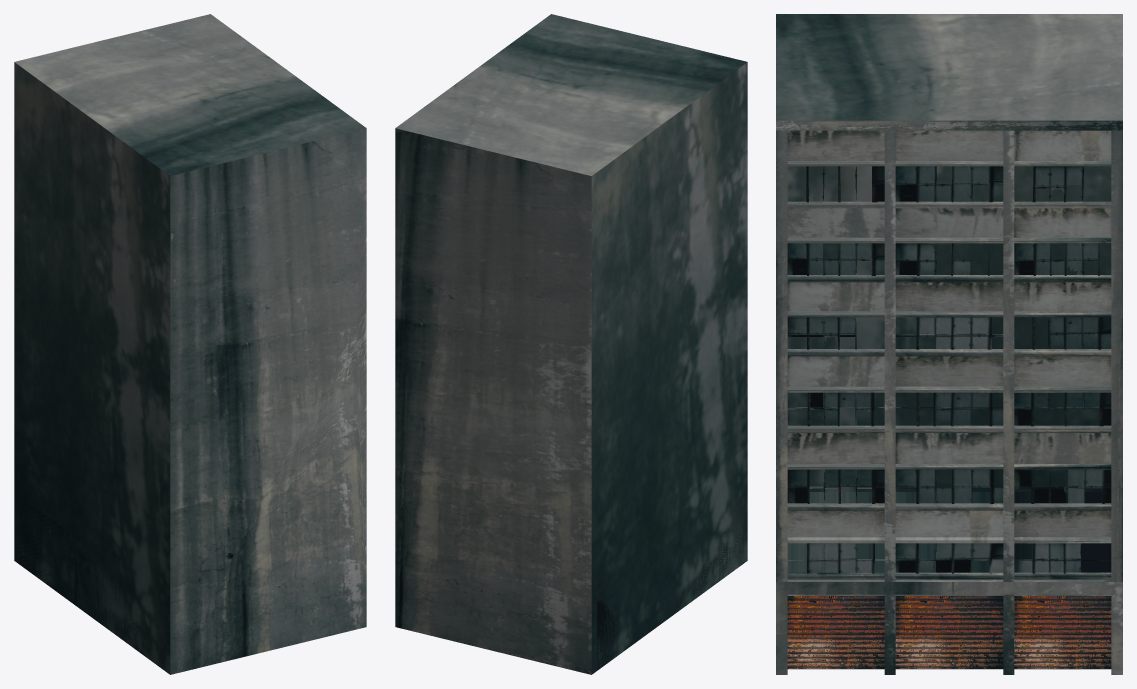
File: abandoned-building-decimated.glb
3 views of the same model, side by side, from view 1: azimuth 30°, elevation 25°; view 2: azimuth 150°, elevation 25°; view 3: azimuth 270°, elevation 25° (orthographic). The views are drawn at different scales.
Visible parts, largest first — view 1: Cube; view 2: Cube; view 3: Cube, 2_Door1_0, 1_Door1_0, 3_Door1_0.
Part boxes in pixels (<box>): Cube: <box>14,14,366,674</box>; Cube: <box>395,14,747,674</box>; Cube: <box>776,14,1122,674</box>; 2_Door1_0: <box>895,596,1003,668</box>; 1_Door1_0: <box>787,596,884,668</box>; 3_Door1_0: <box>1014,596,1111,668</box>.
Size of the model in its own units: 3.49 by 8.46 by 4.8.
2 materials, 2 textured.
